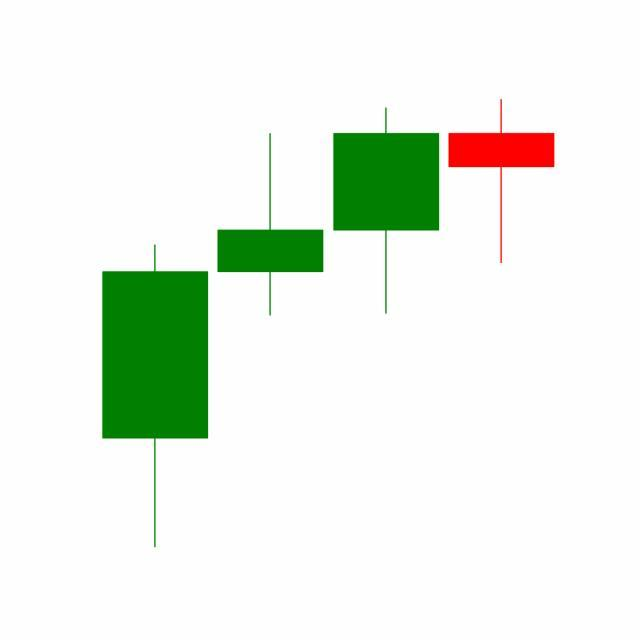Spinning Top: (444, 98, 560, 267)
